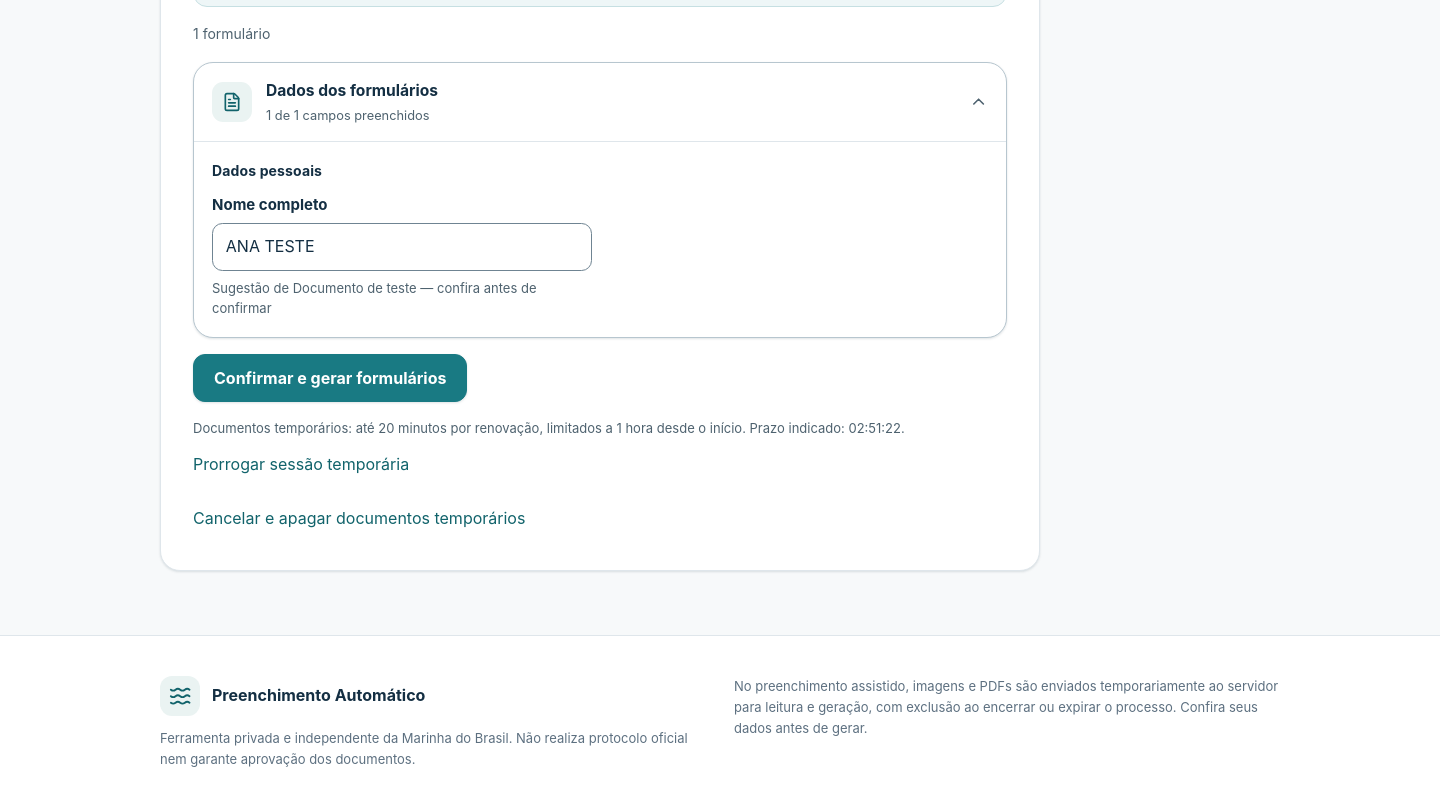
jornada real isolada da demonstração › restaura revisão após recarregar a aba sem gravar documentos no navegador
(page scrolled)
Expected: the field labelled "Nome completo" holds "ANA TESTE", [212, 223, 592, 271]
Click the button "Cancelar e apagar documentos temporários".
click(359, 518)  # box [193, 500, 1007, 538]
(page scrolled)
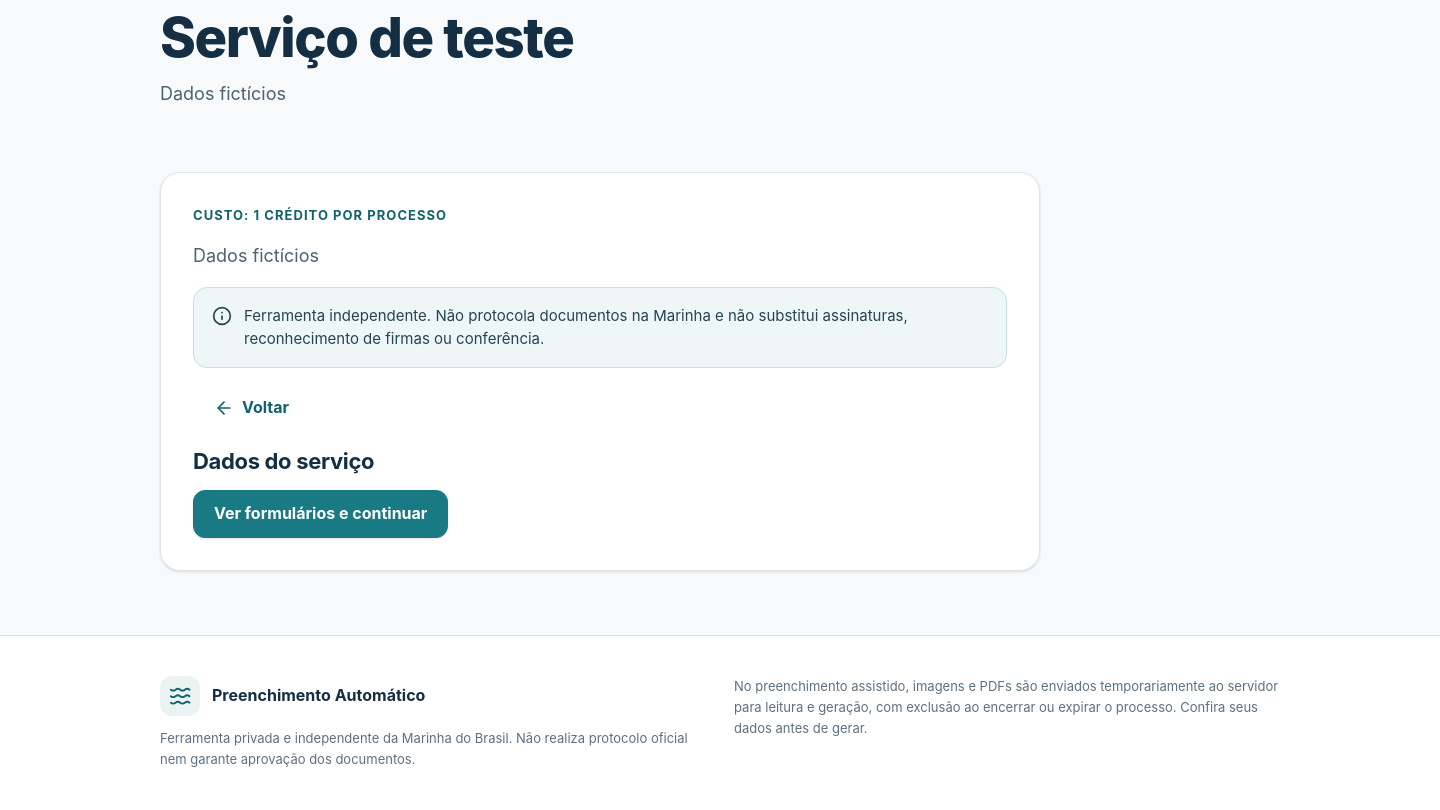
Result: the heading "Dados do serviço" is shown at [193, 448, 374, 474]
